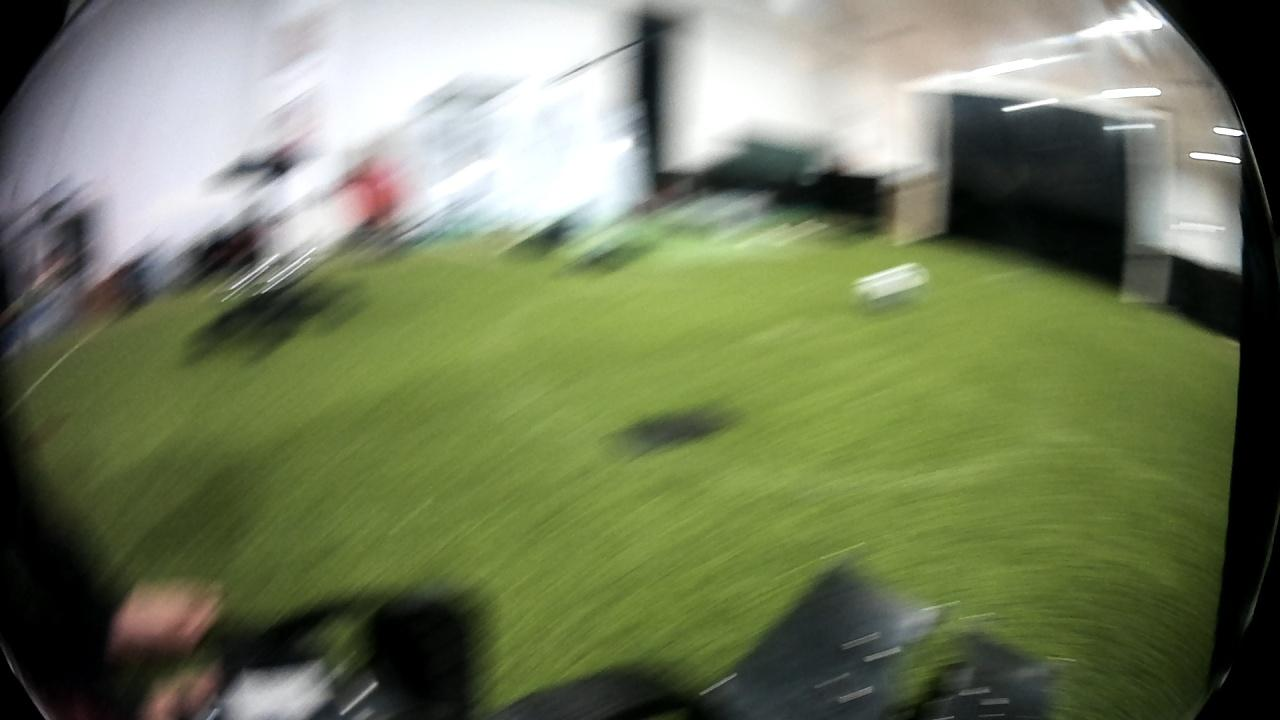ball: (851, 259, 933, 312)
